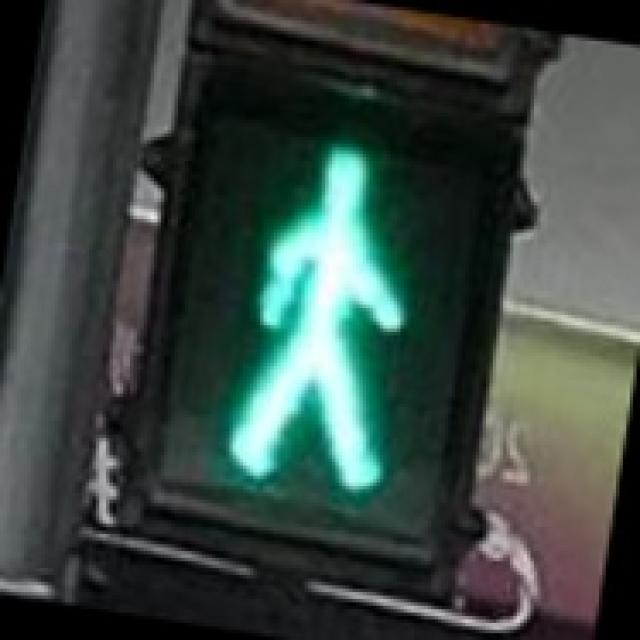geen-crossing: (133, 82, 493, 548)
